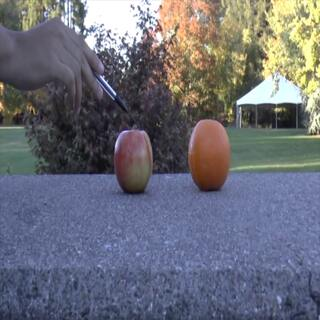apple: (111, 128, 153, 197)
orange: (184, 115, 238, 195)
